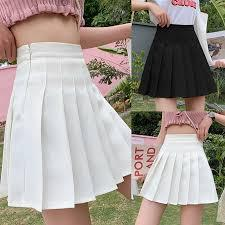skirt: (4, 46, 128, 214), (135, 22, 219, 107), (139, 129, 222, 214)
